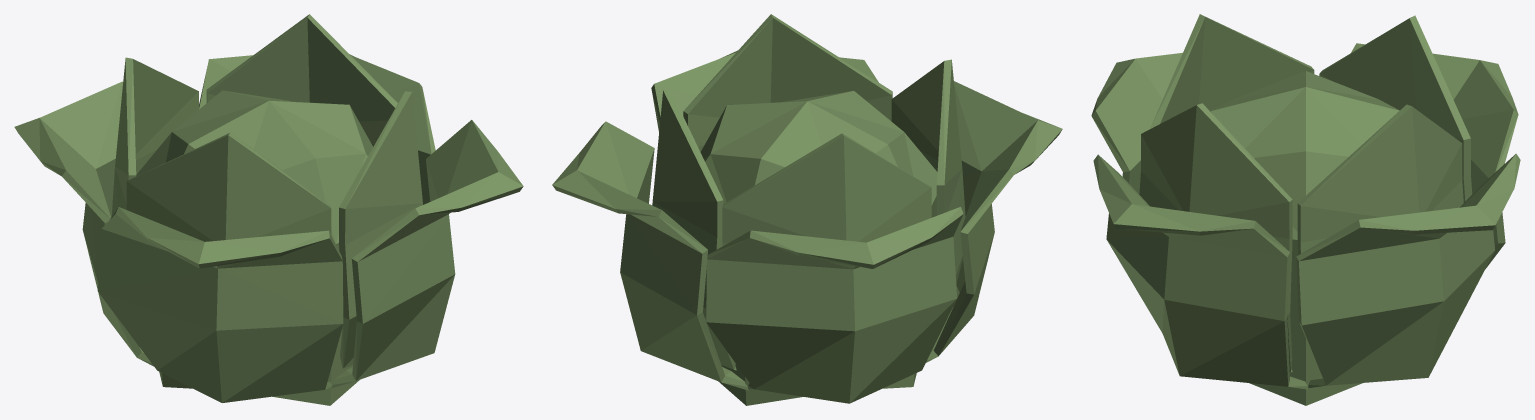
Rendered from lettuce-whole.glb.
The picture shows the model from 3 angles, left to right: view 1: azimuth 30°, elevation 25°; view 2: azimuth 150°, elevation 25°; view 3: azimuth 270°, elevation 25°; orthographic projection. The views are drawn at different scales.
Parts seen in each view (by area): view 1: Lettuce_Whole; view 2: Lettuce_Whole; view 3: Lettuce_Whole.
Part boxes in pixels (bbox=[...]): Lettuce_Whole: bbox=[14, 14, 523, 405]; Lettuce_Whole: bbox=[552, 14, 1062, 405]; Lettuce_Whole: bbox=[1091, 14, 1520, 405].
Size of the model in its own units: 1.66 by 1.37 by 1.66.
